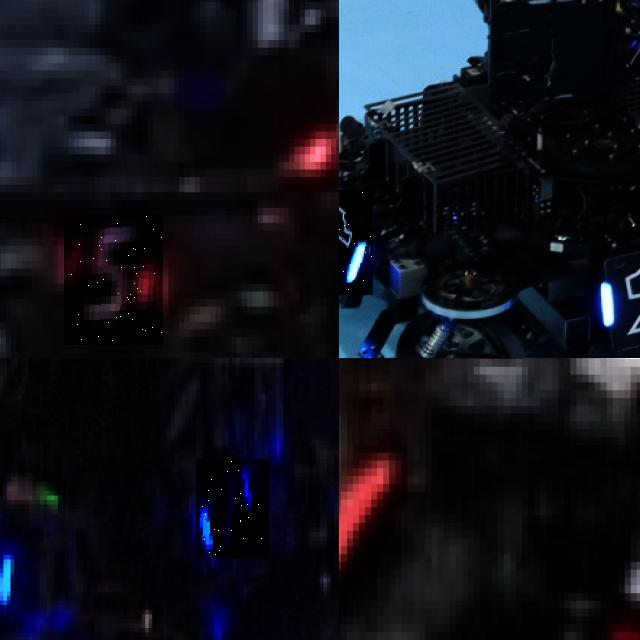B2: (196, 459, 269, 559)
Bs: (339, 189, 373, 295), (601, 255, 640, 339)
R5: (64, 215, 163, 345)
